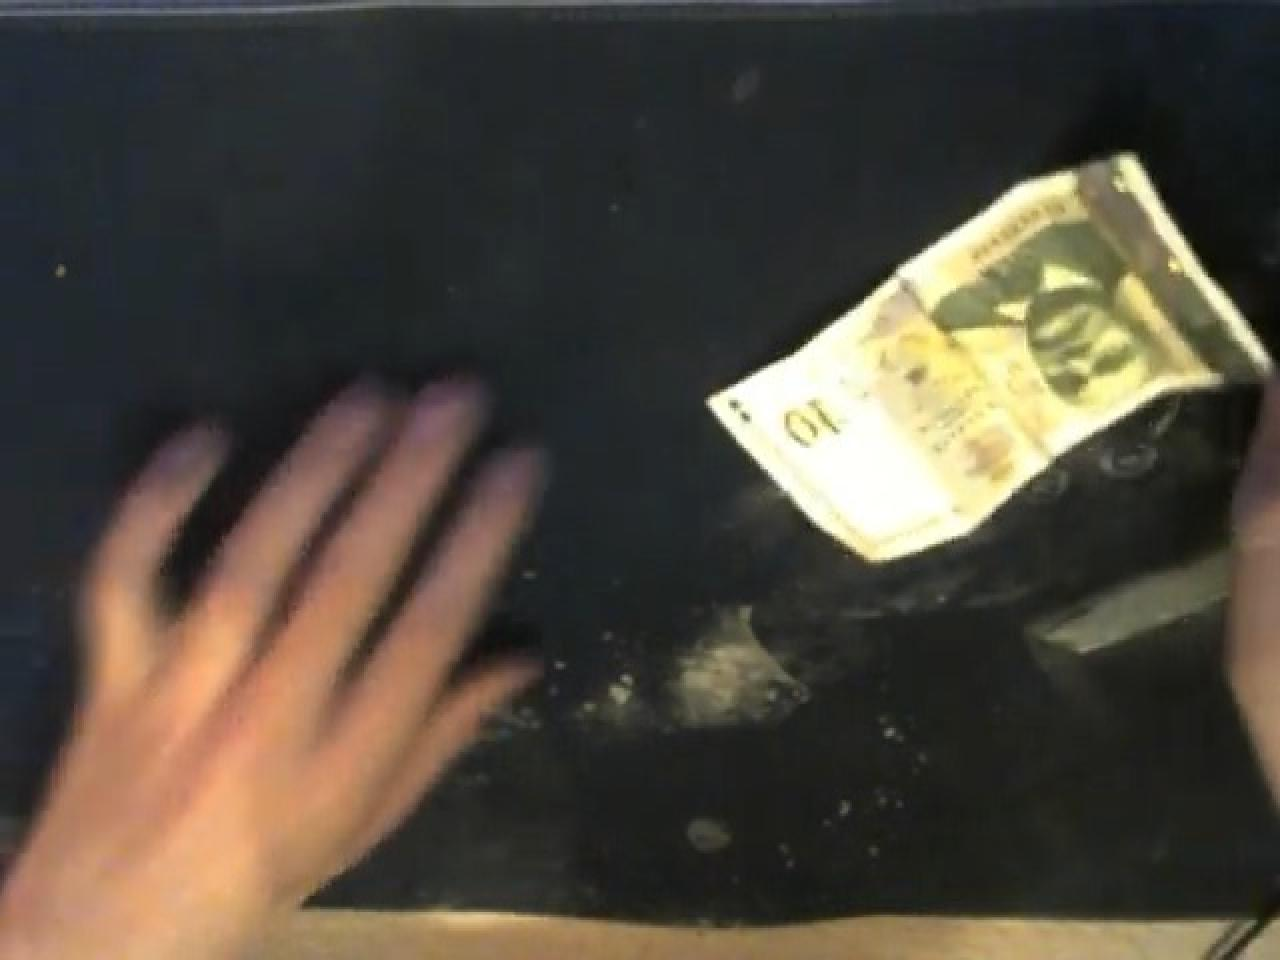10leva: (708, 149, 1264, 563)
